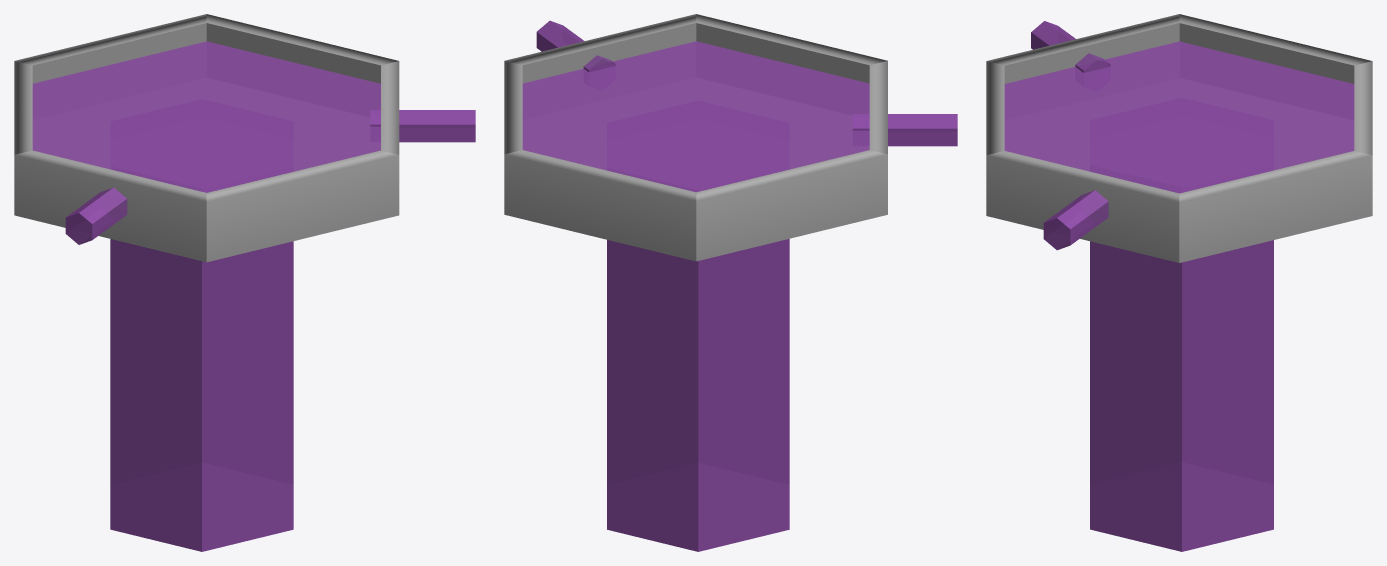
The model's file is PoolViolet.fbx.
The picture shows the model from 3 angles, left to right: view 1: azimuth 30°, elevation 25°; view 2: azimuth 150°, elevation 25°; view 3: azimuth 270°, elevation 25°; orthographic projection.
Parts seen in each view (by area): view 1: violetStand, PoolViolet, PoolVioletWater, VioletOutPipe, ViolettoIndigoPipe; view 2: violetStand, PoolViolet, PoolVioletWater, ViolettoIndigoPipe, VioletOutPipe; view 3: violetStand, PoolViolet, PoolVioletWater, VioletOutPipe, ViolettoIndigoPipe.
Part boxes in pixels (x1,y1,x2,y2): violetStand: (110,239,293,551); PoolViolet: (14,14,399,262); PoolVioletWater: (32,41,380,192); VioletOutPipe: (370,110,475,142); ViolettoIndigoPipe: (65,187,127,244); violetStand: (607,239,789,551); PoolViolet: (504,14,887,261); PoolVioletWater: (522,41,869,192); ViolettoIndigoPipe: (852,114,957,146); VioletOutPipe: (536,20,615,72); violetStand: (1090,240,1273,551); PoolViolet: (986,14,1372,262); PoolVioletWater: (1004,41,1354,193); VioletOutPipe: (1043,190,1108,250); ViolettoIndigoPipe: (1031,21,1110,72).
Size of the model in its own units: 0.0541 by 0.0495 by 0.0433.
